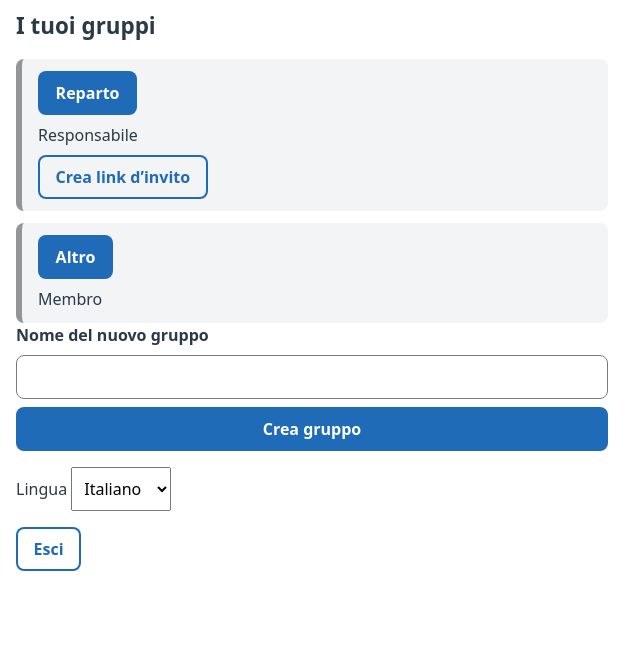
Test: only a manager can create an invite link, and it is shown to copy
What coordinates should you click on to do the following:
click the button "Crea link d’invito"
I would click on:
 (123, 177)
Its box is [38,155,208,199].
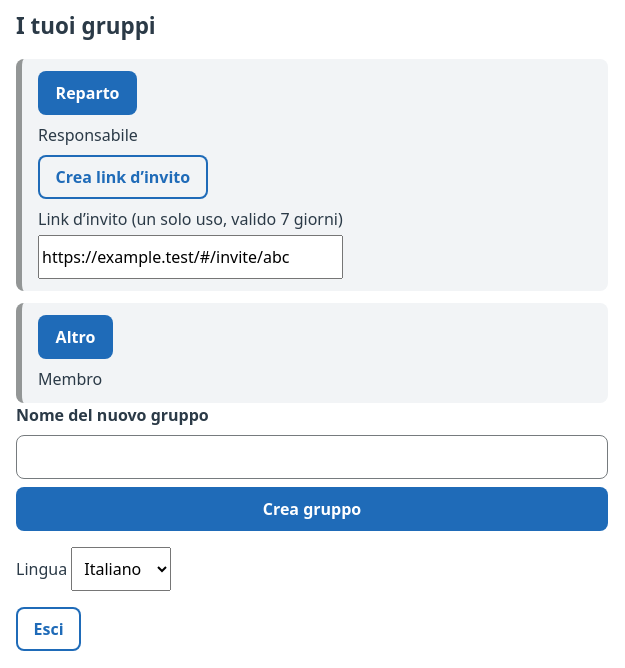
Result: the field labelled "Link d’invito (un solo uso, valido 7 giorni)" holds "https://example.test/#/invite/abc" at [38,235,343,279]
